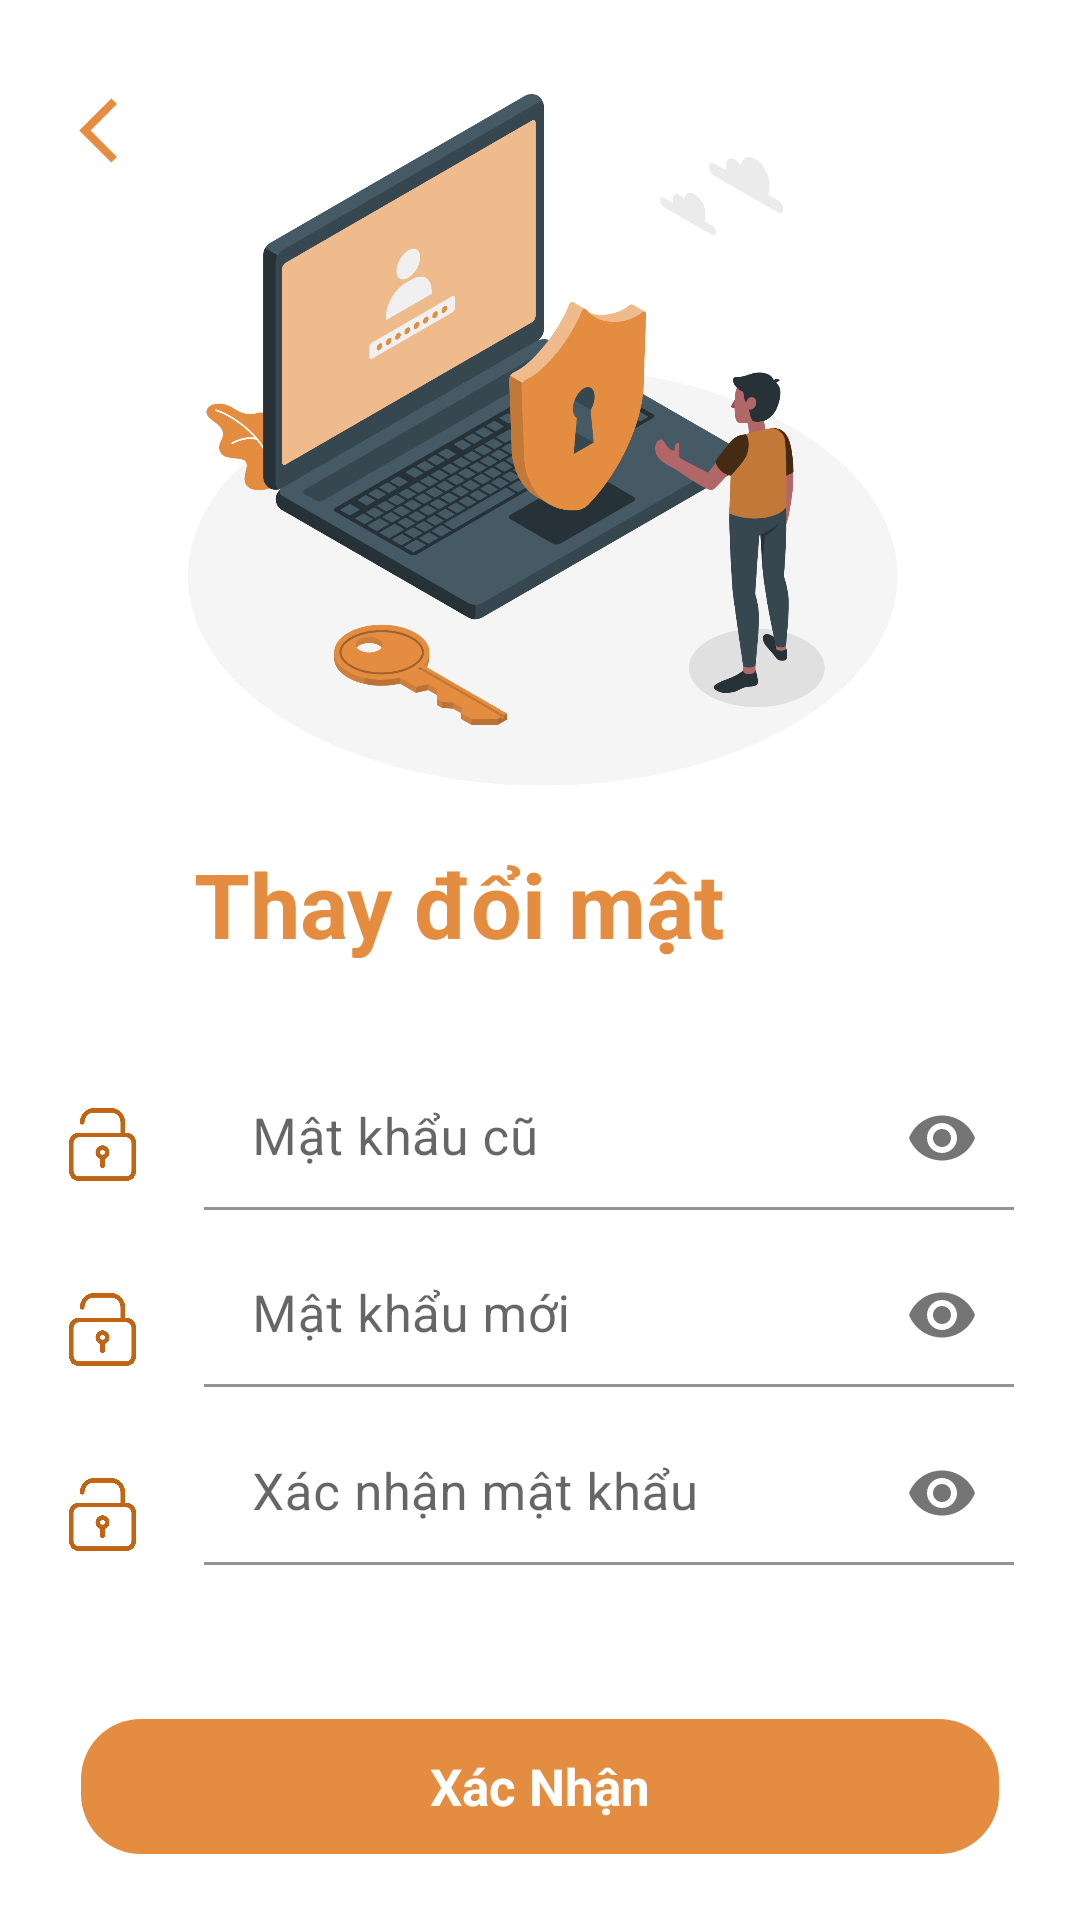

Icons on this 1080px x 1920px Android screen, each with its box as (x1, y1, x2, y2):
back: (79, 98, 117, 163)
login pass: (69, 1108, 136, 1181), (69, 1293, 136, 1366), (69, 1478, 136, 1551)
